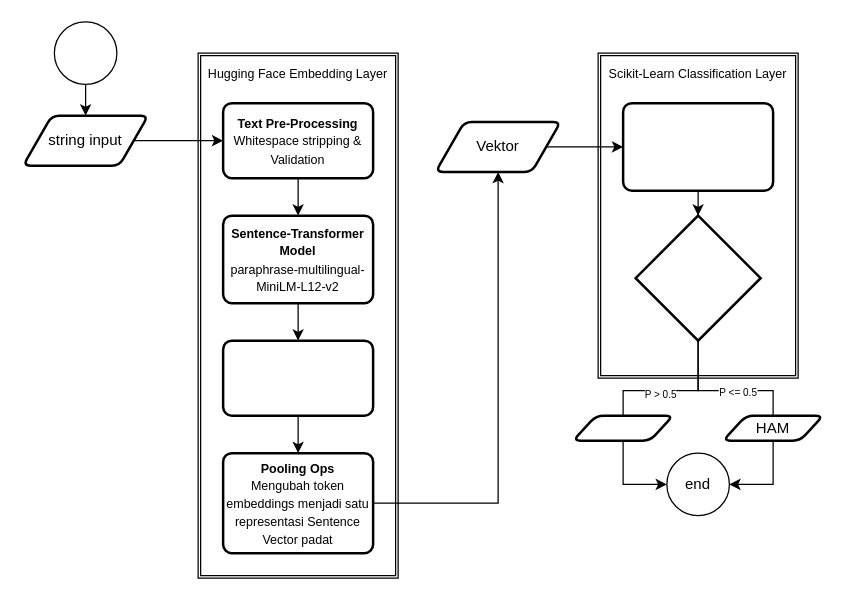
Image size: 845x600. Some labels were removed from this diagram. The centre of each missing label's shape, as x and y in pixels:
Logistik Regression Classifier Dilatih pada dataset Spam/Ham email indo: point (697, 146)
Probability Scoring Sigmoid (P): point (697, 277)
SPAM: point (622, 427)
start: point (85, 52)
Tokenization & Encoding Whitespace stripping & Validation: point (297, 377)
